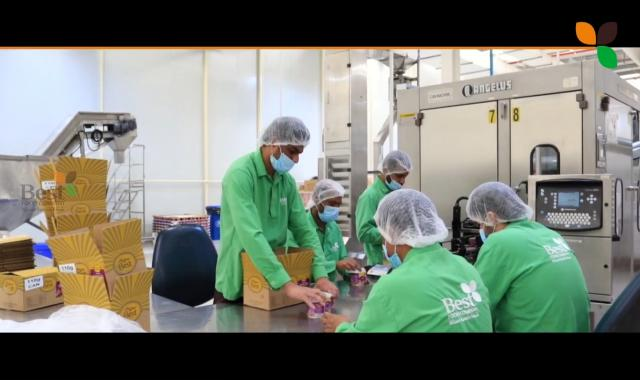hairnet: (374, 190, 451, 254), (465, 180, 534, 228), (262, 113, 308, 158), (313, 178, 346, 217), (382, 148, 412, 182)
